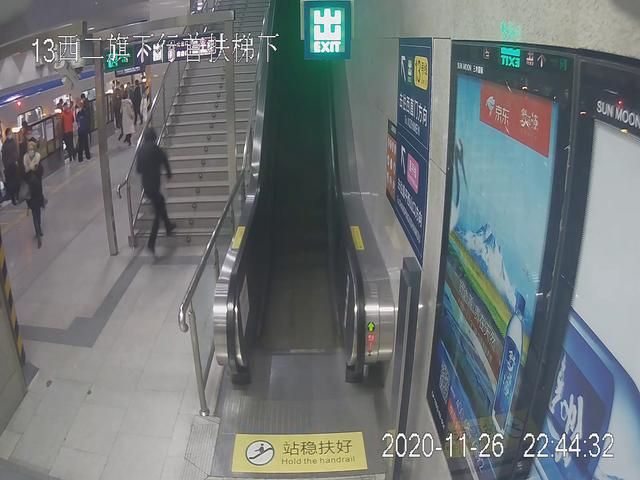person: (136, 121, 170, 254), (19, 140, 46, 249), (1, 125, 22, 207), (57, 101, 76, 163), (119, 90, 136, 148), (76, 100, 91, 165)
